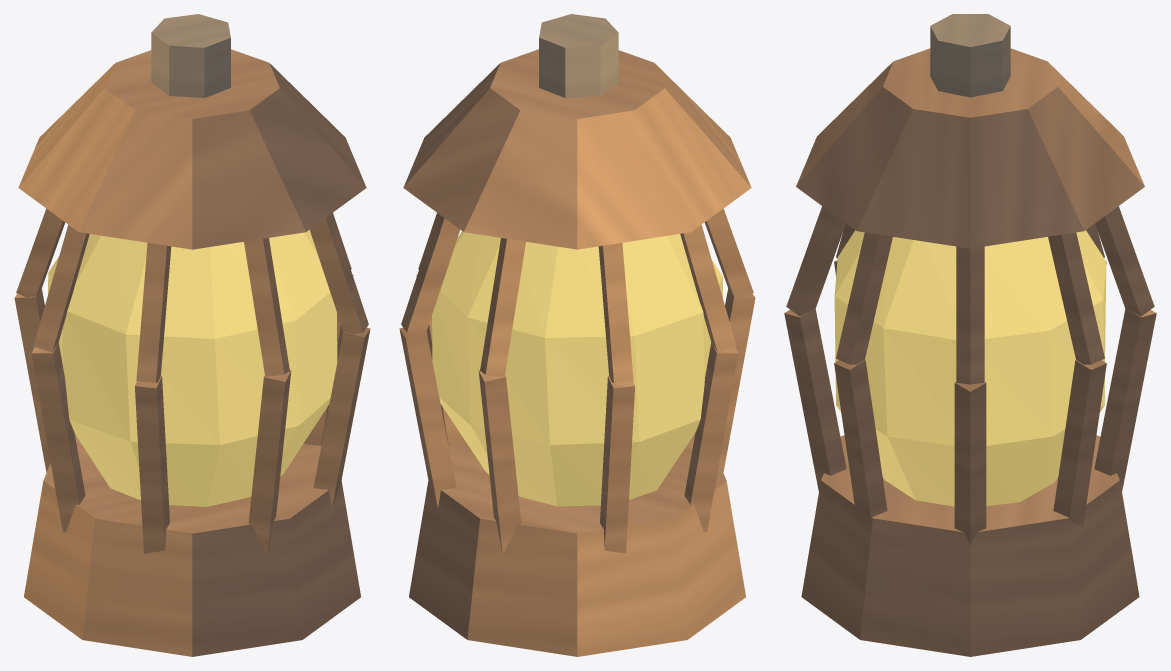
The model's file is watch_warm_lit.glb.
3 views of the same model, side by side, from view 1: azimuth 30°, elevation 25°; view 2: azimuth 150°, elevation 25°; view 3: azimuth 270°, elevation 25° (orthographic).
Visible parts, largest first — view 1: Wegwachtlaterne.001; view 2: Wegwachtlaterne.001; view 3: Wegwachtlaterne.001.
Part boxes in pixels (<box>): Wegwachtlaterne.001: <box>14,14,370,656</box>; Wegwachtlaterne.001: <box>399,14,755,656</box>; Wegwachtlaterne.001: <box>784,14,1156,656</box>.
Size of the model in its own units: 0.4687 by 0.77 by 0.4687.
2 materials, 1 textured.
